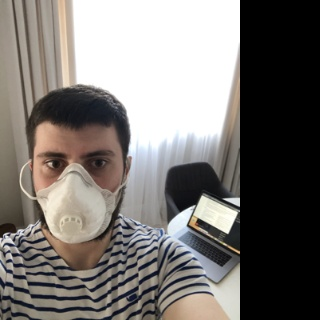with_mask: (33, 140, 120, 243)
